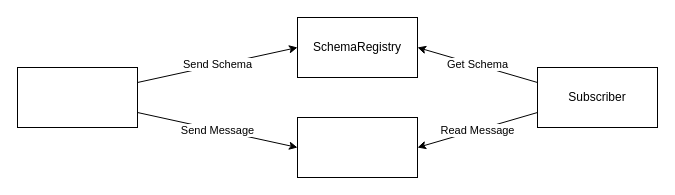
This 675x195 diagram has some shape labels left out. Here are the shapes that lost their labels. From the top down, the centre of each, then its label:
At [77,97]: "Publisher".
At [357,147]: "KafkaBroker".
